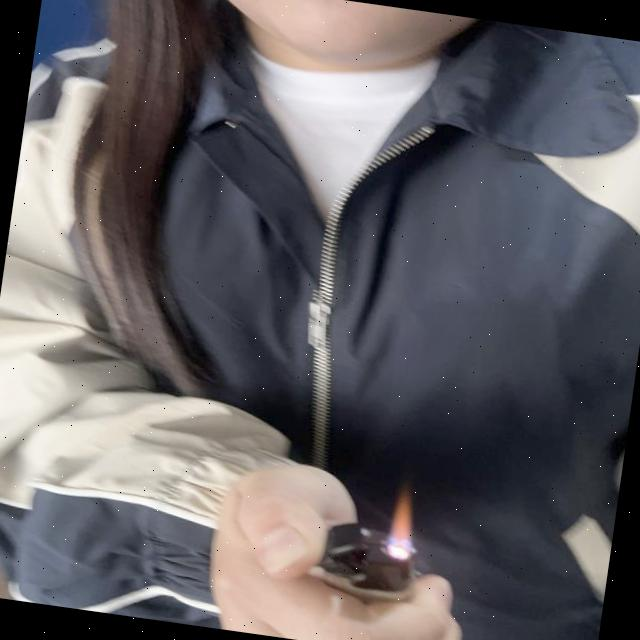fire: (385, 484, 423, 560)
